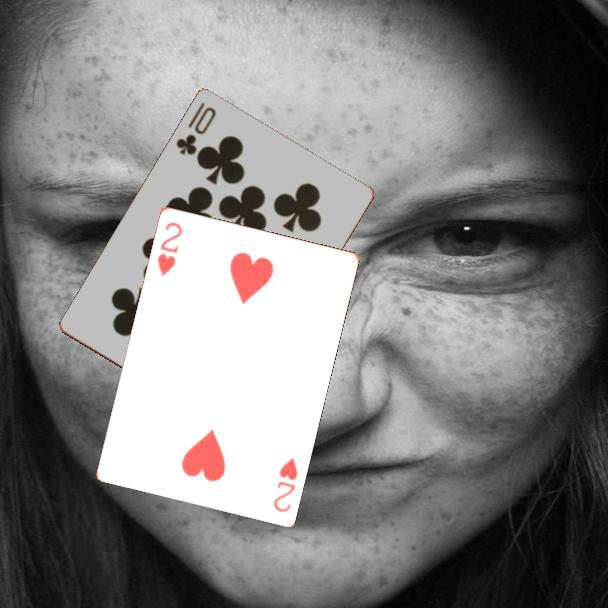c10: (172, 99, 219, 159)
h02: (153, 218, 185, 279), (269, 454, 300, 515)
